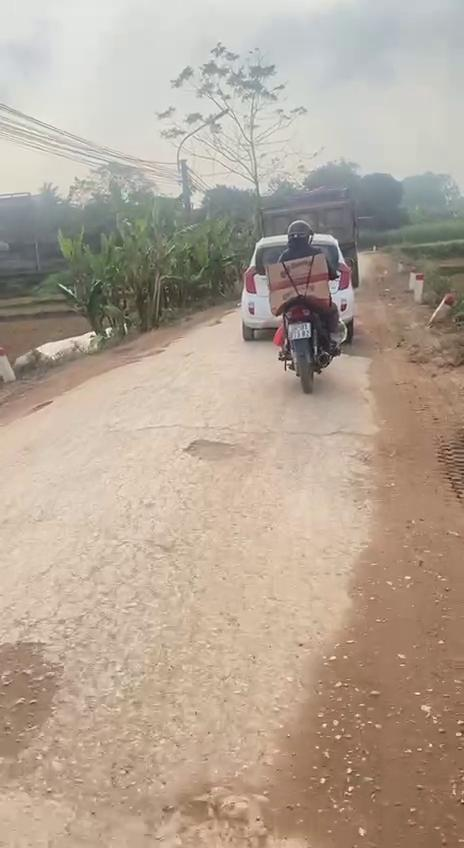pothole: (0, 625, 73, 765), (180, 438, 260, 467)
